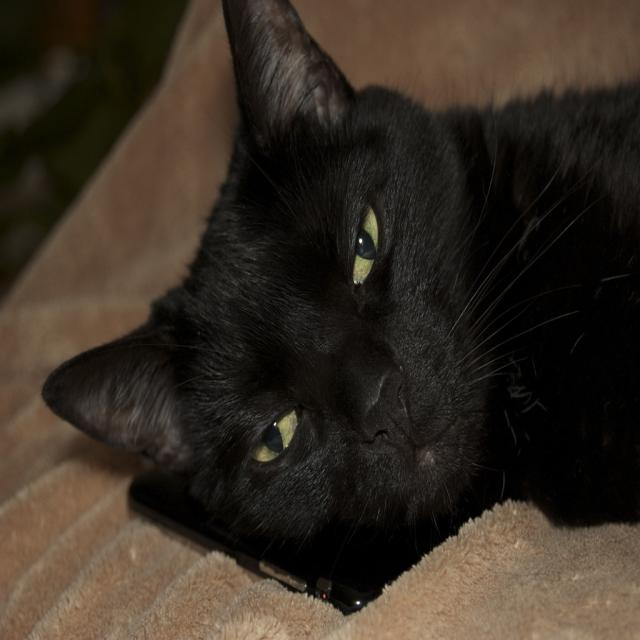Cat: (36, 0, 639, 616)
